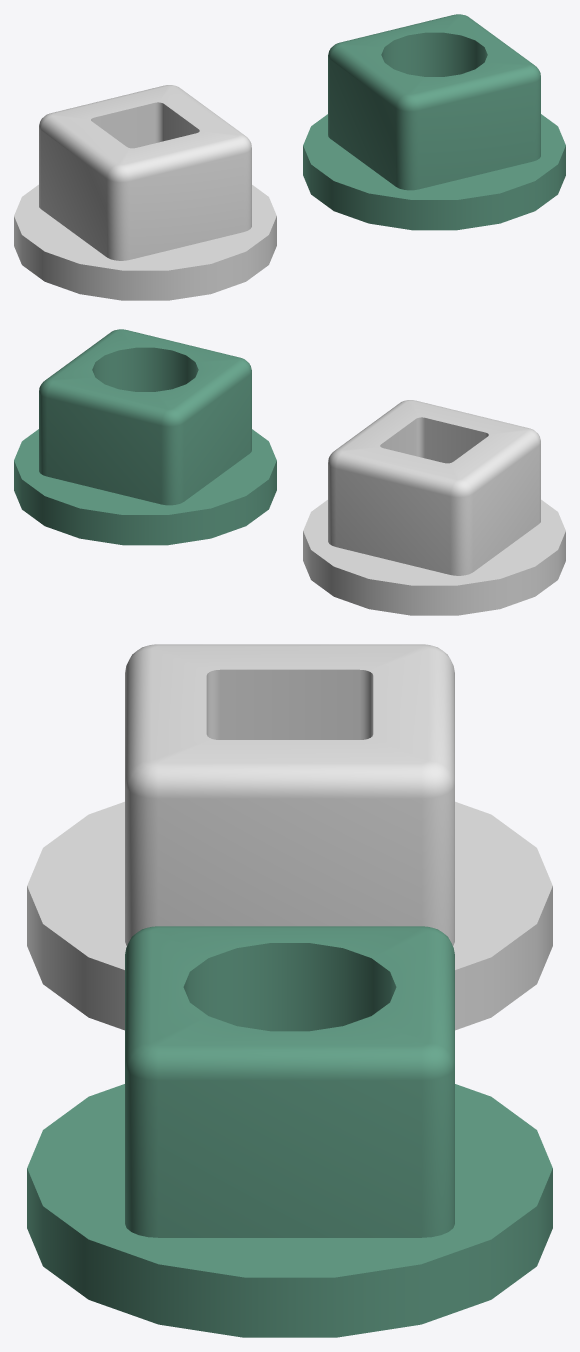
Rendered from Inserts.fbx.
3 views of the same model, one above another, from view 1: azimuth 30°, elevation 25°; view 2: azimuth 150°, elevation 25°; view 3: azimuth 270°, elevation 25° (orthographic). The views are drawn at different scales.
Parts seen in each view (by area): view 1: PLSI, MESI; view 2: PLSI, MESI; view 3: PLSI, MESI.
Part boxes in pixels (left/top/right/bottom): PLSI: left=303, top=14, right=565, bottom=230; MESI: left=14, top=85, right=276, bottom=300; PLSI: left=14, top=329, right=276, bottom=545; MESI: left=303, top=400, right=565, bottom=615; PLSI: left=27, top=926, right=552, bottom=1337; MESI: left=27, top=644, right=552, bottom=1030.
Size of the model in its own units: 88.77 by 19.93 by 39.37.
